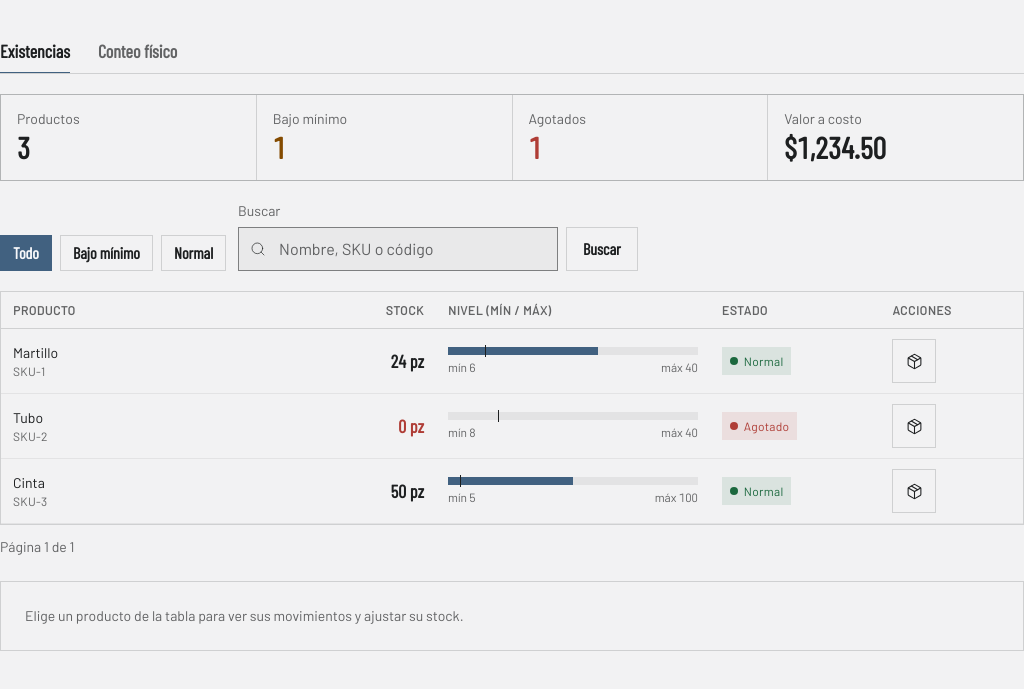
Test case: Inventario con el diseño Industry › ajusta el stock enviando el motivo y exige elegirlo
Step 1. Click the button named "Ajustar stock de Martillo" → (914, 361), box [892,339,936,383]
(page scrolled)
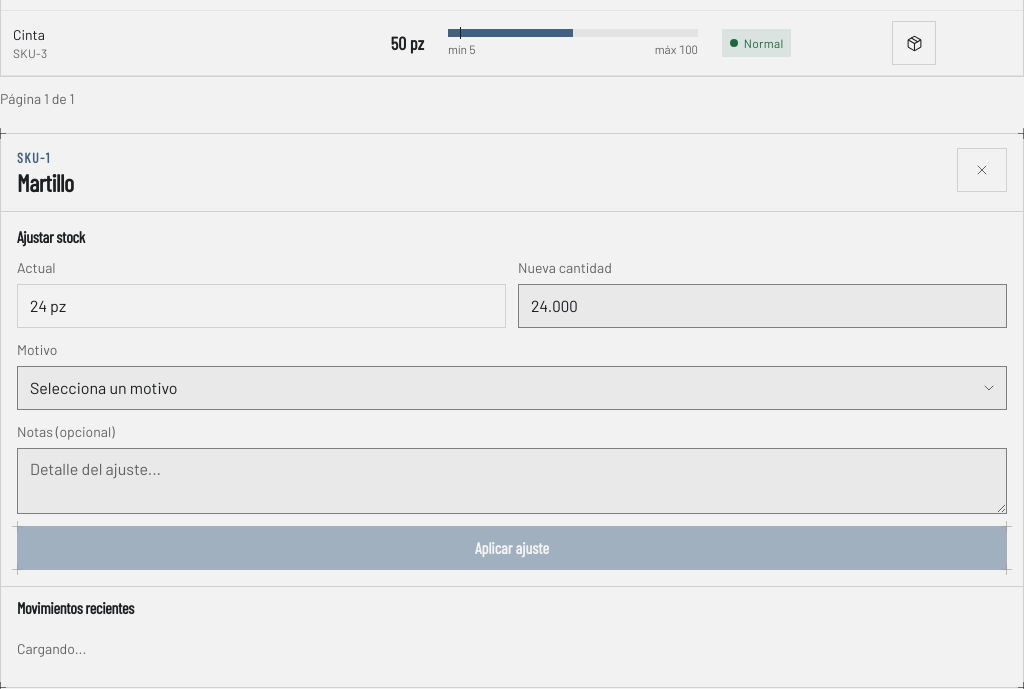
Step 2. Replace the text in the number field labelled "Nueva cantidad" with "20" → (762, 306), box [518,284,1007,328]
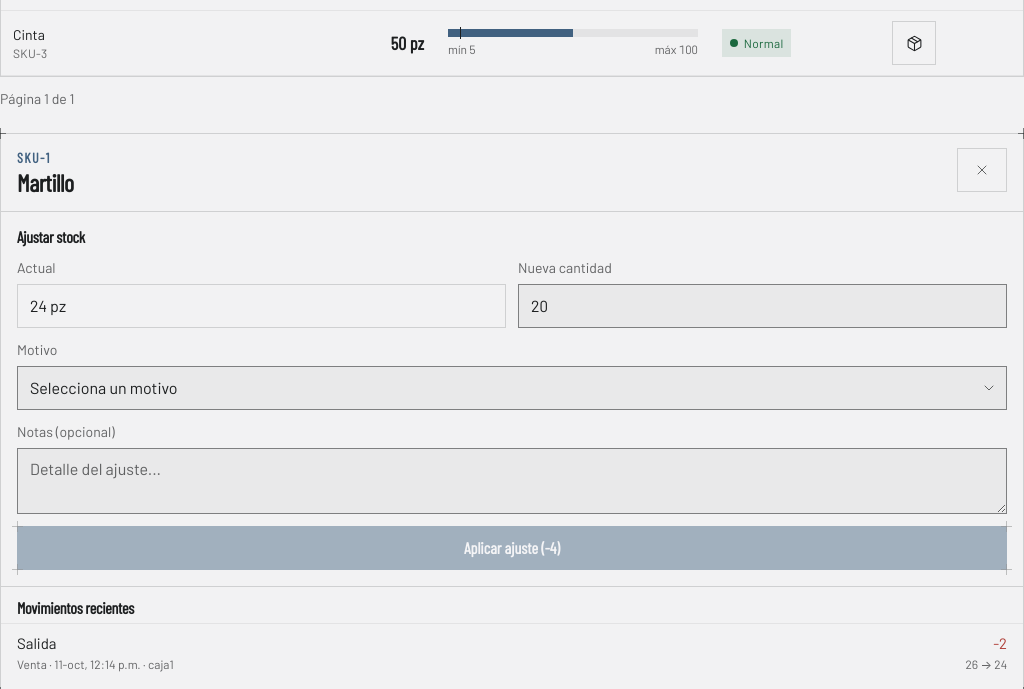
Expected: the button "Aplicar ajuste (-4)" is disabled, [17,526,1007,570]
Step 3. Select "Merma o daño" in the dropdown labelled "Motivo" → (512, 388), box [17,366,1007,410]
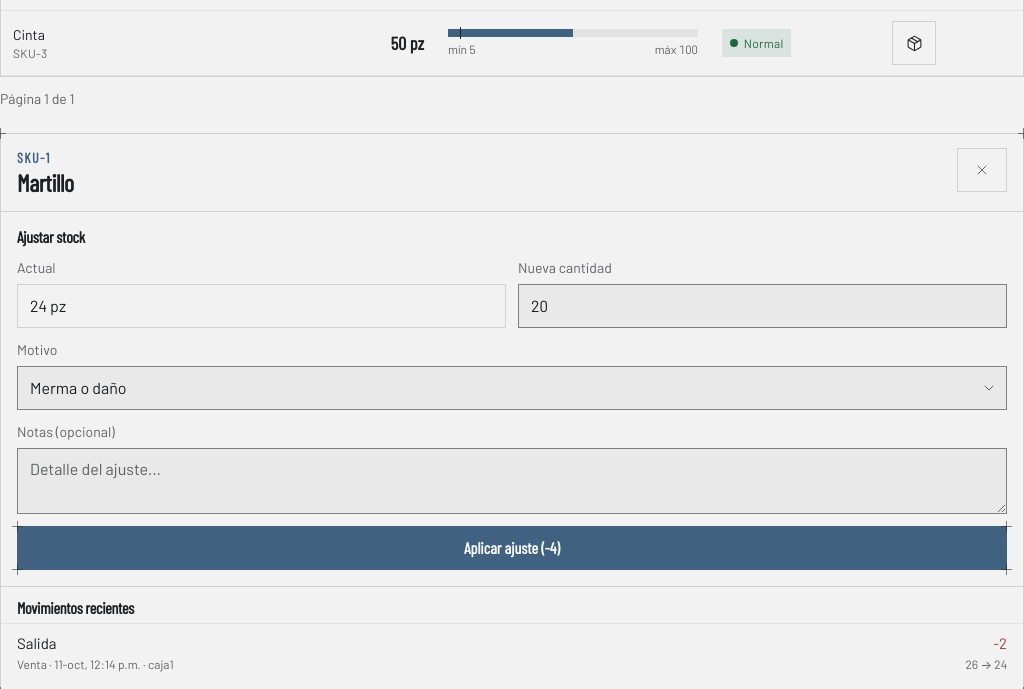
Step 4. Click the button "Aplicar ajuste (-4)" → (512, 548), box [17,526,1007,570]
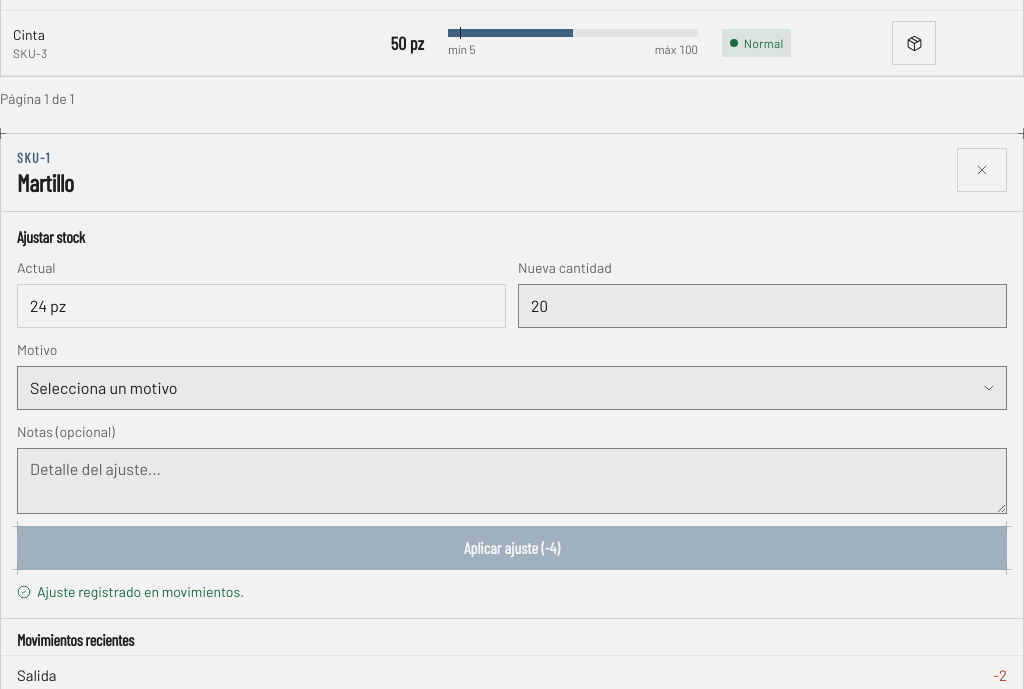
Expected: the text "Ajuste registrado en movimientos." is shown, [17,583,244,600]
